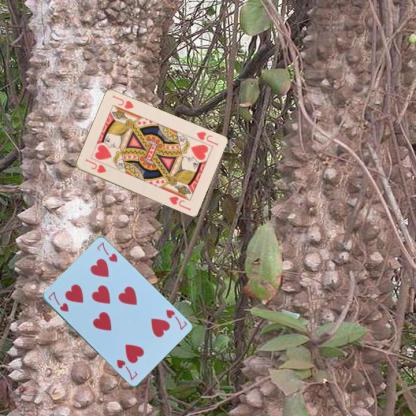7h: (163, 307, 188, 331), (45, 289, 69, 313)
Jh: (194, 129, 219, 147), (83, 156, 107, 174)
